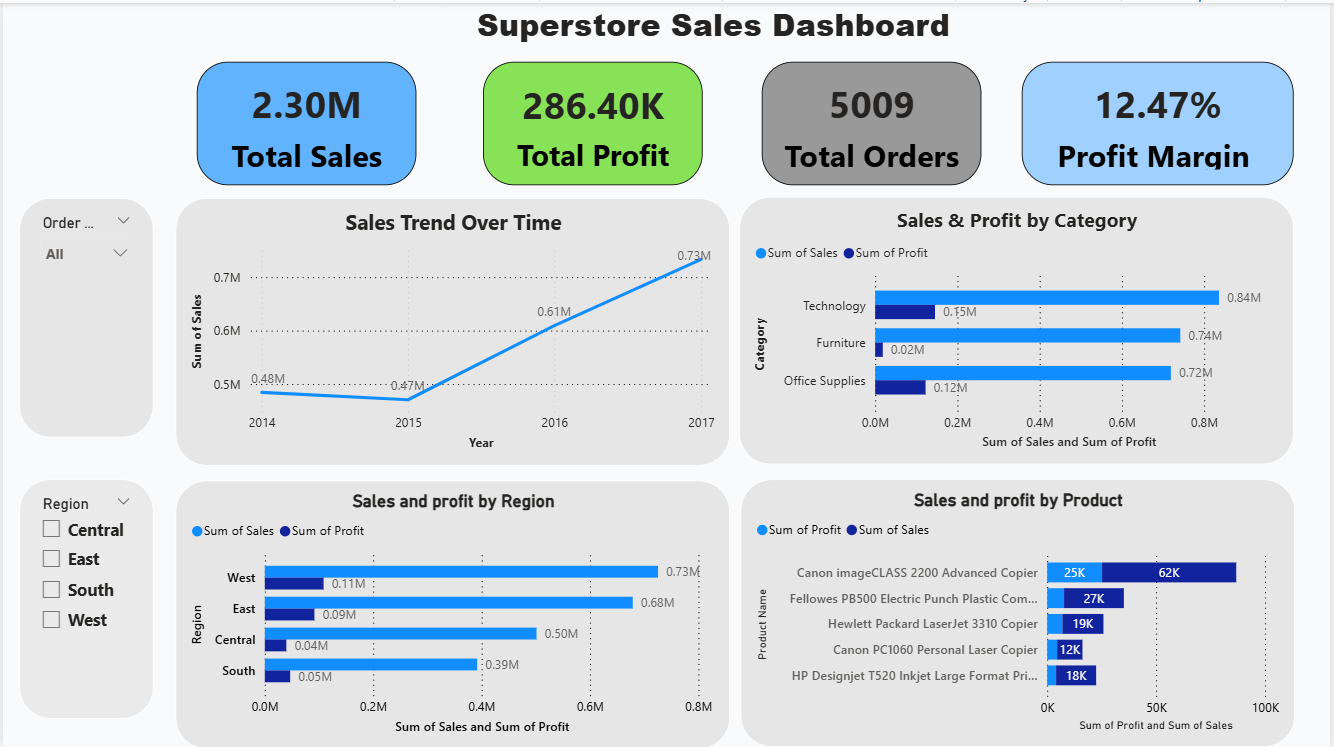

The dashboard page shown, as its layout file describes it:
{"tool":"powerbi","page":{"name":"Page 1","canvas":[1280,720],"ordinal":0},"visuals":[{"type":"card","fields":{"Values":["clean_superstore (2).Total Slaes"]},"box":[186.5,56.8,212.2,118.9],"z":0},{"type":"card","fields":{"Values":["clean_superstore (2).Total Profit"]},"box":[463.5,56.8,212.2,118.9],"z":1000},{"type":"card","fields":{"Values":["clean_superstore (2).Profit Margin %"]},"box":[983.8,56.8,262.2,118.9],"z":2000},{"type":"card","fields":{"Values":["clean_superstore (2).Total Orders"]},"box":[732.4,56.8,212.2,118.9],"z":3000},{"type":"lineChart","title":"Sales Trend Over Time","fields":{"Category":["clean_superstore (2).Order Date.Variation.Date Hierarchy.Year","clean_superstore (2).Order Date.Variation.Date Hierarchy.Quarter","clean_superstore (2).Order Date.Variation.Date Hierarchy.Month","clean_superstore (2).Order Date.Variation.Date Hierarchy.Day"],"Y":["Sum(clean_superstore (2).Sales)"]},"box":[166.2,187.8,535.1,258.1],"z":3001},{"type":"clusteredBarChart","title":"Sales & Profit by Category","fields":{"Category":["clean_superstore (2).Category"],"Y":["Sum(clean_superstore (2).Sales)","Sum(clean_superstore (2).Profit)"]},"box":[710.2,187.3,535,258.8],"z":3002},{"type":"clusteredBarChart","title":"Sales and profit by Region","fields":{"Category":["clean_superstore (2).Region"],"Y":["Sum(clean_superstore (2).Sales)","Sum(clean_superstore (2).Profit)"]},"box":[166.2,460.8,535.1,259.5],"z":3003},{"type":"barChart","title":"Sales and profit by Product","fields":{"Y":["Sum(clean_superstore (2).Profit)","Sum(clean_superstore (2).Sales)"],"Category":["clean_superstore (2).Product Name"]},"box":[712.2,460,535,258.1],"z":3006},{"type":"textbox","title":"Superstore Sales Dashboard","box":[427,0,517.6,41.9],"z":3007},{"type":"slicer","fields":{"Values":["clean_superstore (2).Region"]},"box":[16.2,459.5,129.7,231.1],"z":3008},{"type":"slicer","fields":{"Values":["clean_superstore (2).Order Year"]},"box":[16.2,187.8,129.7,231.1],"z":3009}]}

Visuals, with their boxes in screenshot pixels (x1, y1, x2, y2), scaled from the page's 1280x720 canvas onto the 1334x747 screenshot:
card - clean_superstore (2).Total Slaes: rect(194, 59, 416, 182)
card - clean_superstore (2).Total Profit: rect(483, 59, 704, 182)
card - clean_superstore (2).Profit Margin %: rect(1025, 59, 1299, 182)
card - clean_superstore (2).Total Orders: rect(763, 59, 984, 182)
"Sales Trend Over Time" lineChart: rect(173, 195, 731, 463)
"Sales & Profit by Category" clusteredBarChart: rect(740, 194, 1298, 463)
"Sales and profit by Region" clusteredBarChart: rect(173, 478, 731, 746)
"Sales and profit by Product" barChart: rect(742, 477, 1300, 745)
"Superstore Sales Dashboard" textbox: rect(445, 0, 984, 43)
slicer - clean_superstore (2).Region: rect(17, 477, 152, 716)
slicer - clean_superstore (2).Order Year: rect(17, 195, 152, 435)
